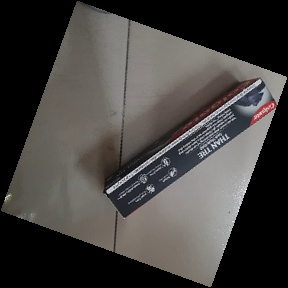Colgate Than: (103, 78, 278, 219)
